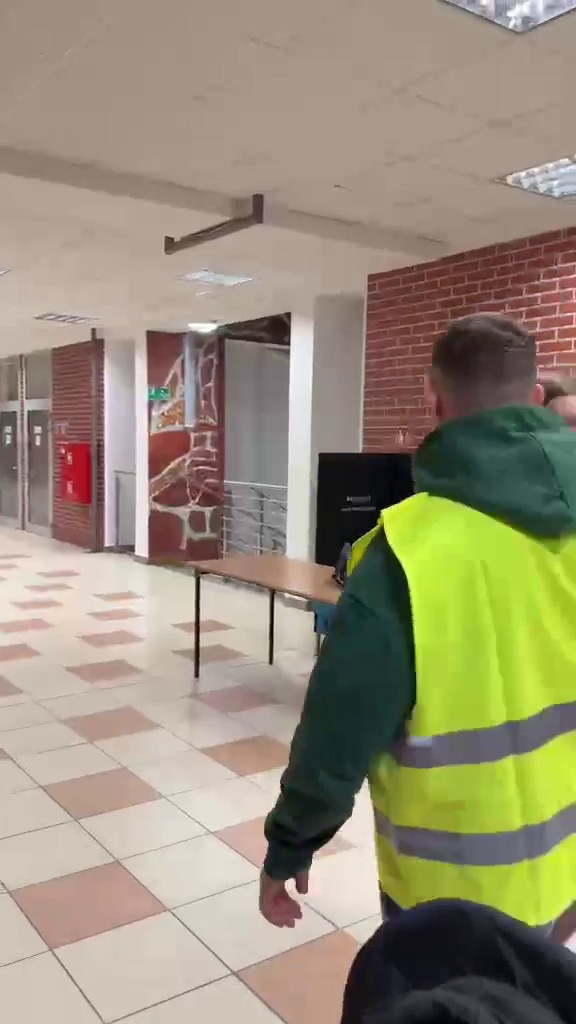vest: (259, 312, 576, 956)
